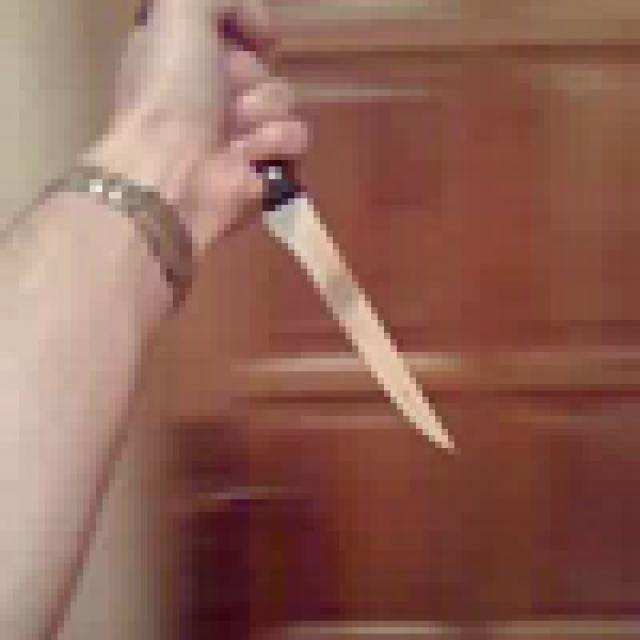Weapons: (250, 161, 463, 463)
